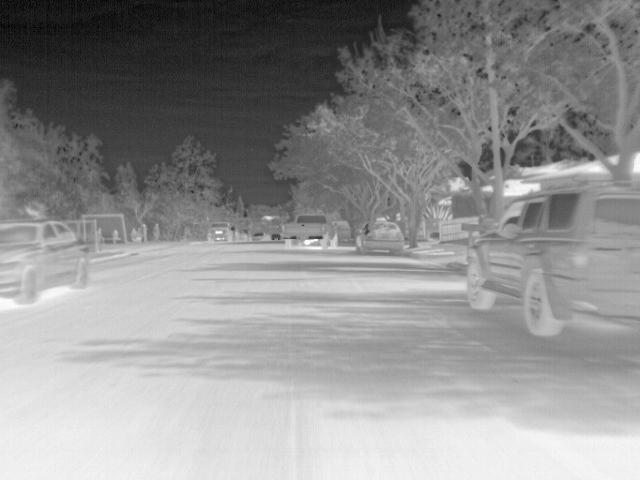car: (466, 182, 639, 337), (0, 220, 96, 304), (283, 213, 338, 248), (356, 220, 404, 256), (207, 221, 235, 243), (251, 230, 268, 241), (237, 230, 252, 242), (269, 230, 282, 243)
person: (149, 220, 162, 242), (138, 222, 150, 244), (127, 226, 140, 244), (110, 227, 123, 244), (95, 227, 107, 245)
